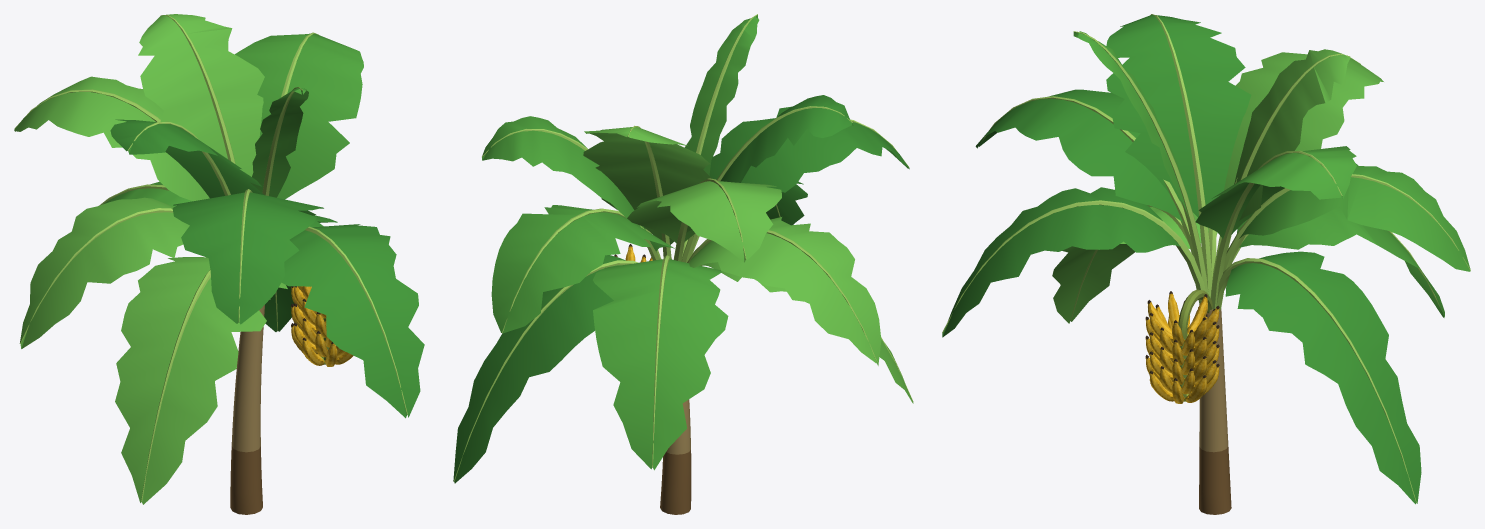
The picture shows the model from 3 angles, left to right: view 1: azimuth 30°, elevation 25°; view 2: azimuth 150°, elevation 25°; view 3: azimuth 270°, elevation 25°; orthographic projection. The views are drawn at different scales.
Parts seen in each view (by area): view 1: body; view 2: body; view 3: body.
Boxes of the visible parts, left/top/right/bottom form: body: left=14, top=14, right=424, bottom=514; body: left=453, top=14, right=913, bottom=514; body: left=942, top=14, right=1470, bottom=514.
Bounding box in the file's own units: 5.35 × 6.58 × 6.7.
Materials: 1 (1 with a texture image).
